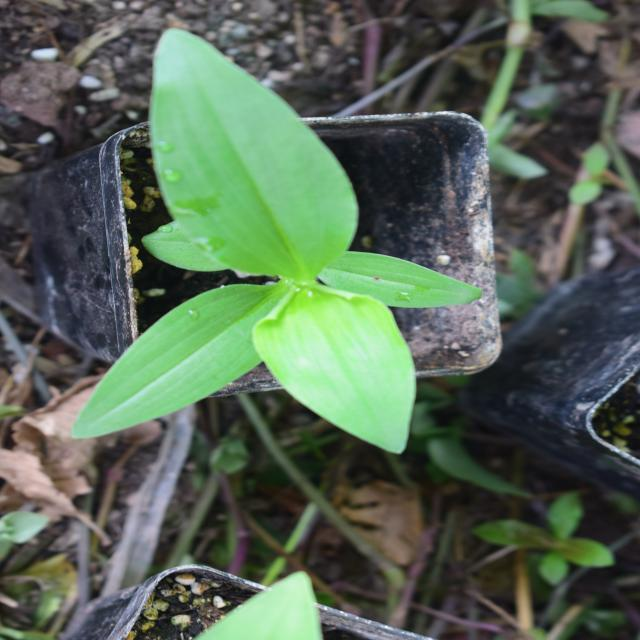Common Dayflower: (23, 188, 452, 586)
